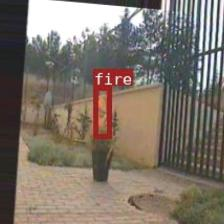fire: (93, 85, 111, 138)
